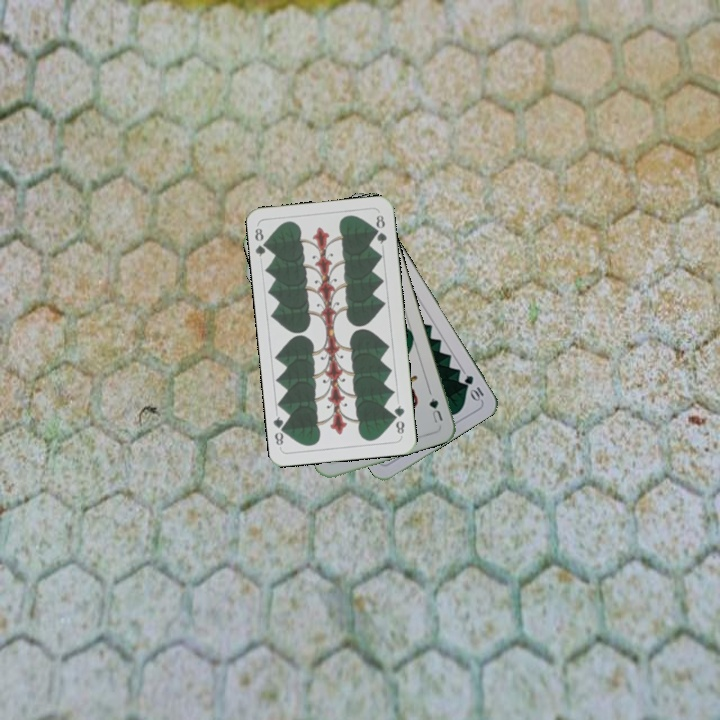G10: (460, 371, 486, 404)
G8: (251, 224, 272, 259), (389, 401, 407, 437)
GU: (425, 393, 446, 426)
